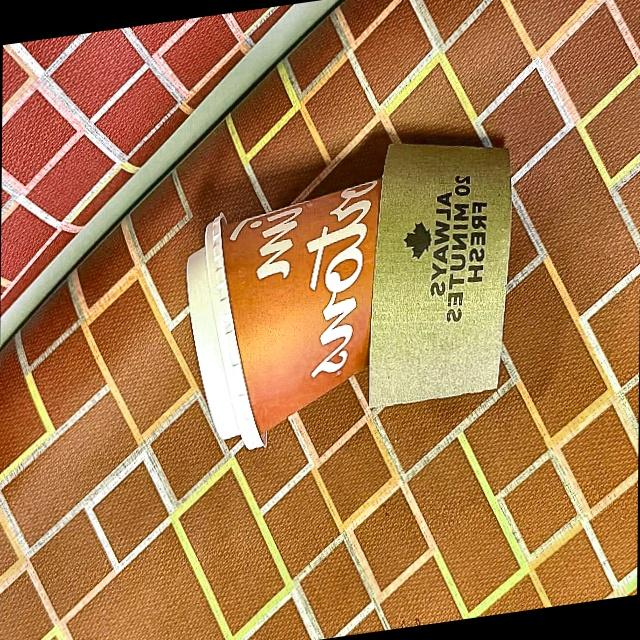Timmies: (171, 130, 521, 470)
